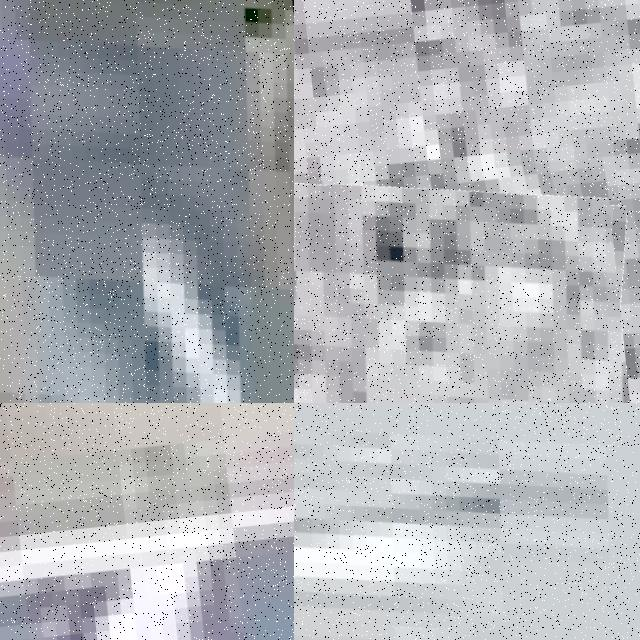drone: (0, 0, 294, 403), (294, 156, 640, 403), (294, 403, 640, 640)
